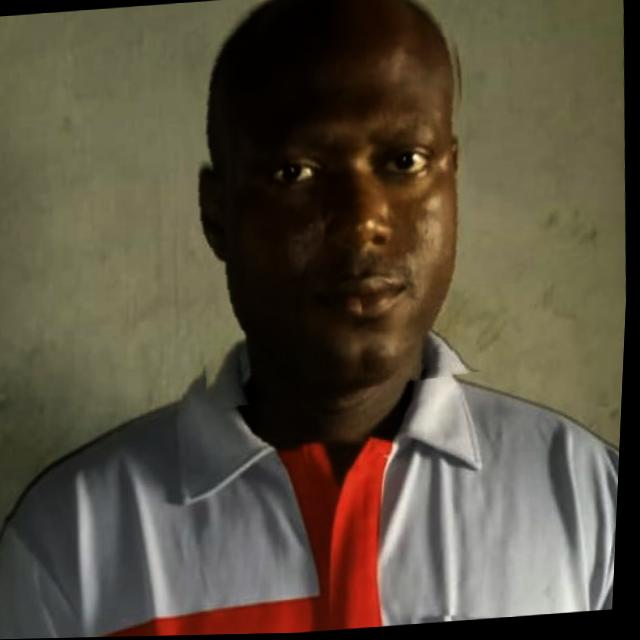sad: (170, 0, 492, 408)
